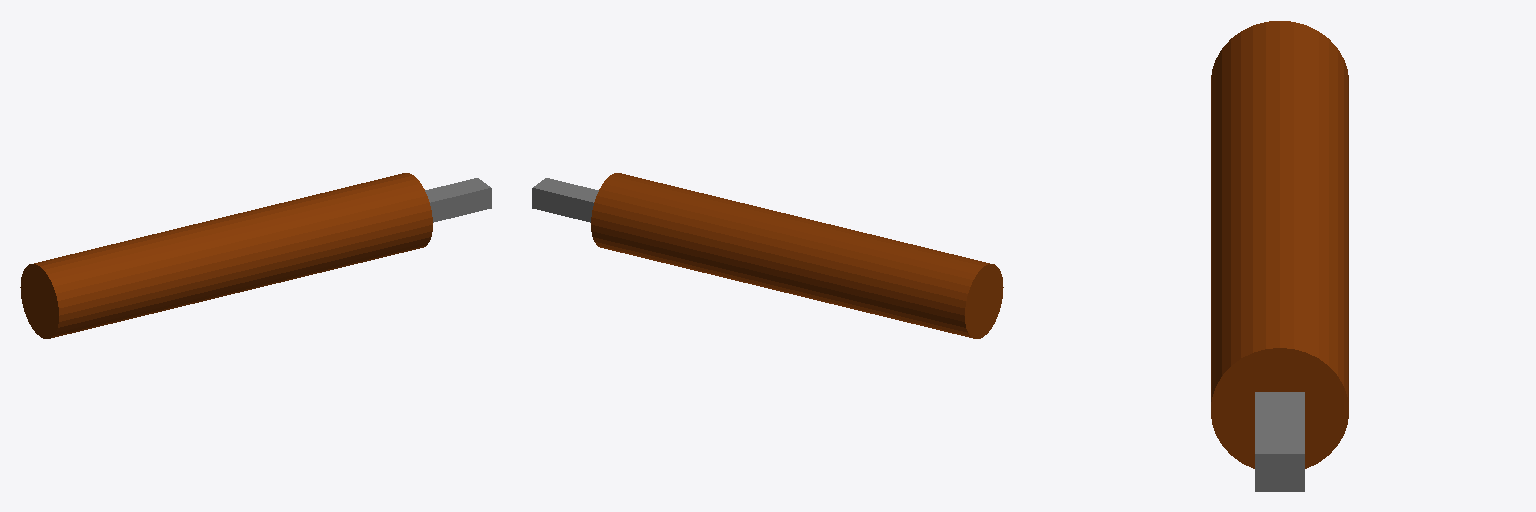
URDF robot description (handle_head):
<?xml version="1.0"?>
<robot name="handle_head">

  <link name="handle_head">
    <!-- Handle -->
    <visual>
              <origin xyz="0 0 0" rpy="0 -1.5707963267948966 0"/>
        <geometry>
          <cylinder length="0.10487189583279347" radius="0.009396218589752259"/>
        </geometry>
        
      <material name="brown">
        <color rgba="0.55 0.27 0.07 1.0"/>
      </material>
    </visual>
    <collision>
              <origin xyz="0 0 0" rpy="0 -1.5707963267948966 0"/>
        <geometry>
          <cylinder length="0.10487189583279347" radius="0.009396218589752259"/>
        </geometry>
        
    </collision>

    <!-- Head -->
    <visual>
              <origin xyz="0.06238800071568254 0 0" rpy="0 0 0"/>
        <geometry>
          <box size="0.019904105598571607 0.006699968102102553 0.005566112443921787"/>
        </geometry>
        
      <material name="gray">
        <color rgba="0.5 0.5 0.5 1.0"/>
      </material>
    </visual>
    <collision>
              <origin xyz="0.06238800071568254 0 0" rpy="0 0 0"/>
        <geometry>
          <box size="0.019904105598571607 0.006699968102102553 0.005566112443921787"/>
        </geometry>
        
    </collision>

    <inertial>
      <origin xyz="0.0014409434627231188 0 0" rpy="0 0 0"/>
      <mass value="0.016063331411144636"/>
      <inertia ixx="6.802901268801553e-07" iyy="1.98629895731791e-05" izz="1.9863419568599237e-05" ixy="0" ixz="0" iyz="0"/>
    </inertial>
  </link>

</robot>

--- What the picture shows (computed from the rendered views, not written in the file) ---
3 views of the same robot in one strip: view 1: azimuth 30°, elevation 25°; view 2: azimuth 150°, elevation 25°; view 3: azimuth 270°, elevation 25° (orthographic).
Model handle_head with 1 links and 0 joints (none), rooted at handle_head, posed every joint at zero.
Links seen in each view (by area): view 1: handle_head; view 2: handle_head; view 3: handle_head.
Boxes of the visible links, x1,y1,x2,y2 form: handle_head: [20, 173, 491, 338]; handle_head: [532, 173, 1003, 338]; handle_head: [1211, 21, 1348, 491].
Size in the robot's own frame: 0.1248 by 0.0188 by 0.0188 metres.
Geometry: primitives only (box / cylinder / sphere), no mesh files.
